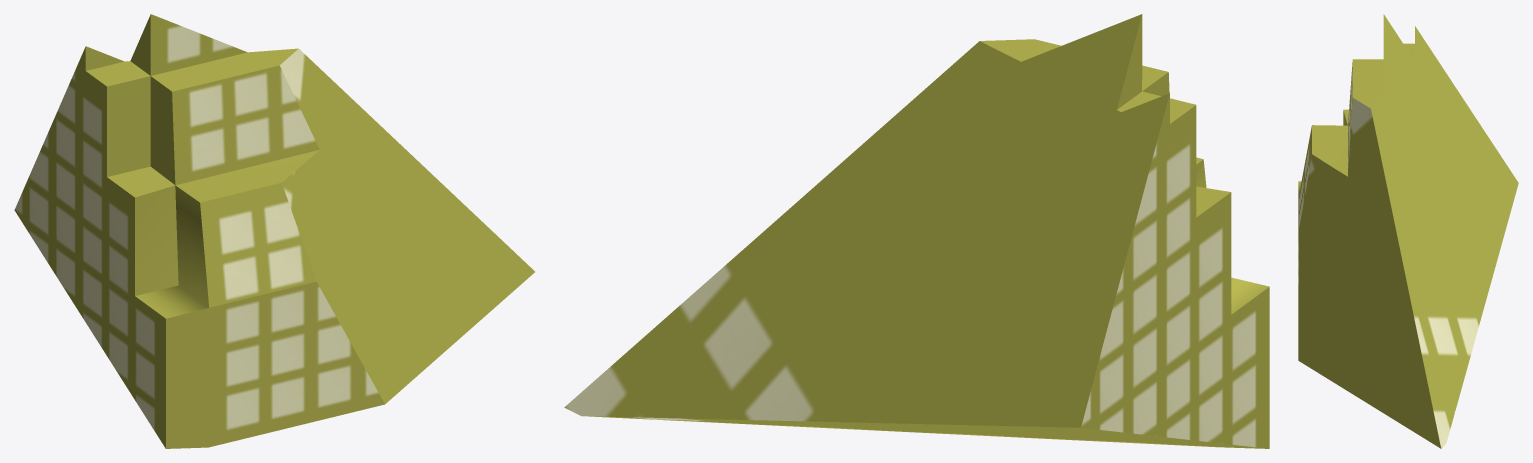
The model's file is r2Shard3.fbx.
3 views of the same model, side by side, from view 1: azimuth 30°, elevation 25°; view 2: azimuth 150°, elevation 25°; view 3: azimuth 270°, elevation 25° (orthographic). The views are drawn at different scales.
Parts seen in each view (by area): view 1: shard43; view 2: shard43; view 3: shard43.
Boxes of the visible parts, x1,y1,x2,y2 form: shard43: (14, 14, 534, 448); shard43: (564, 14, 1269, 448); shard43: (1298, 14, 1518, 448).
Bounding box in the file's own units: 0.1902 × 0.1516 × 0.1067.
1 material, 1 textured.
